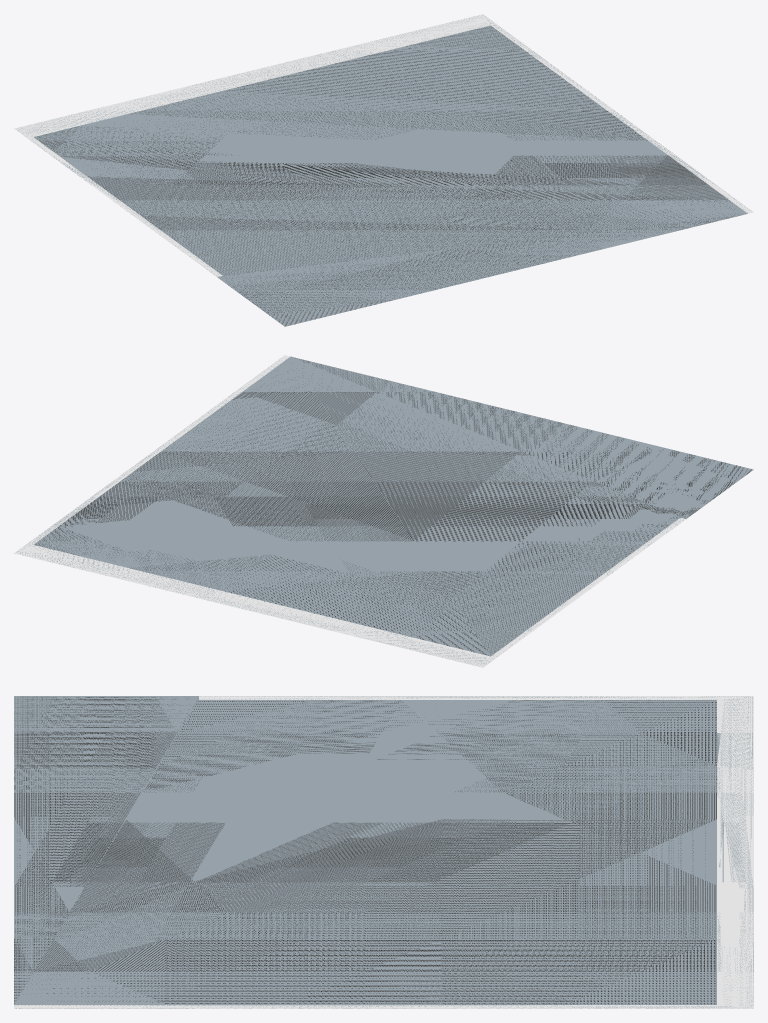
Rendered from lane_end_divider.fbx.
3 views of the same model, one above another, from view 1: azimuth 30°, elevation 25°; view 2: azimuth 150°, elevation 25°; view 3: azimuth 270°, elevation 25° (orthographic). The views are drawn at different scales.
Visible parts, largest first — view 1: Model; view 2: Model; view 3: Model.
Boxes of the visible parts, box(x1,y1,x2,y2) form: Model: box(14, 14, 753, 326); Model: box(14, 355, 753, 667); Model: box(14, 696, 753, 1008).
Size of the model in its own units: 4 by 0 by 4.
